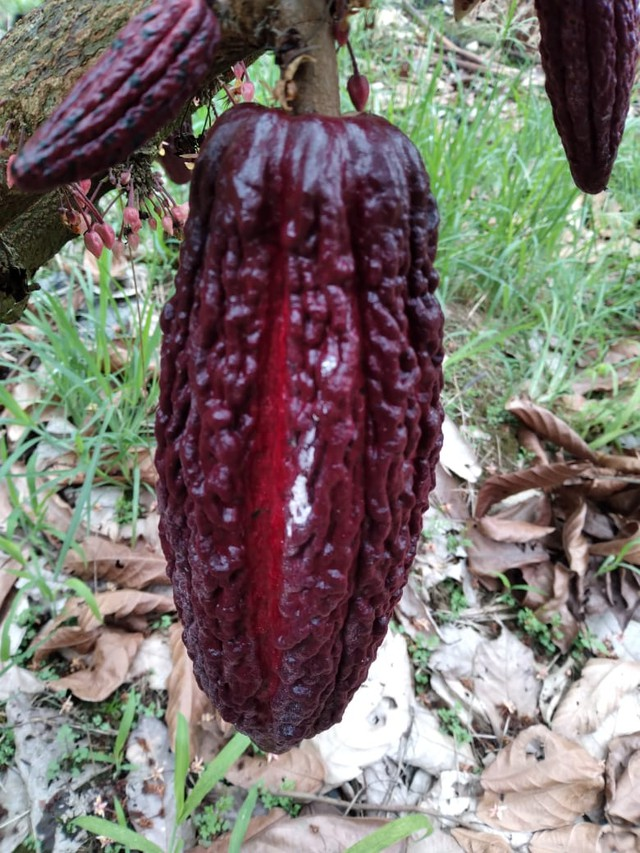moniliophthora roreri: (107, 77, 458, 765)
